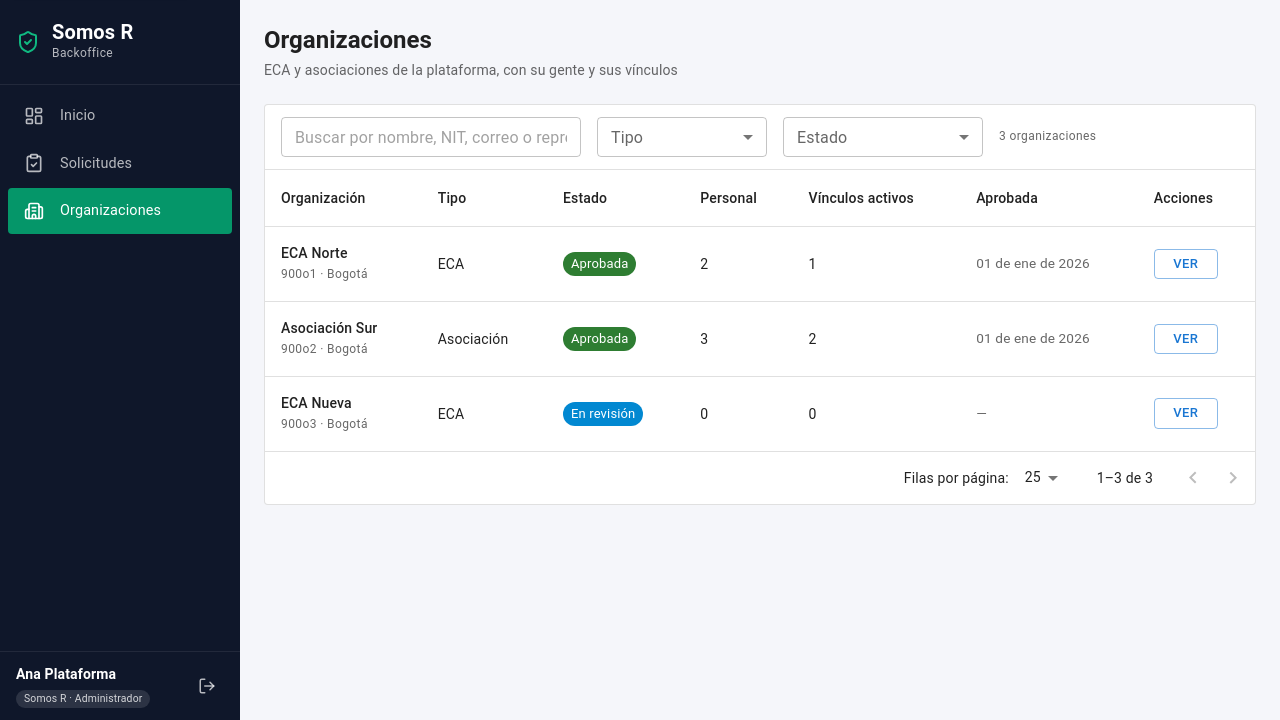
Test: organization detail › shows an ECA with its people, links and warehouses
Click the button "Ver" in the row of "ECA Norte" at (1186, 264), box [1154,249,1218,279]
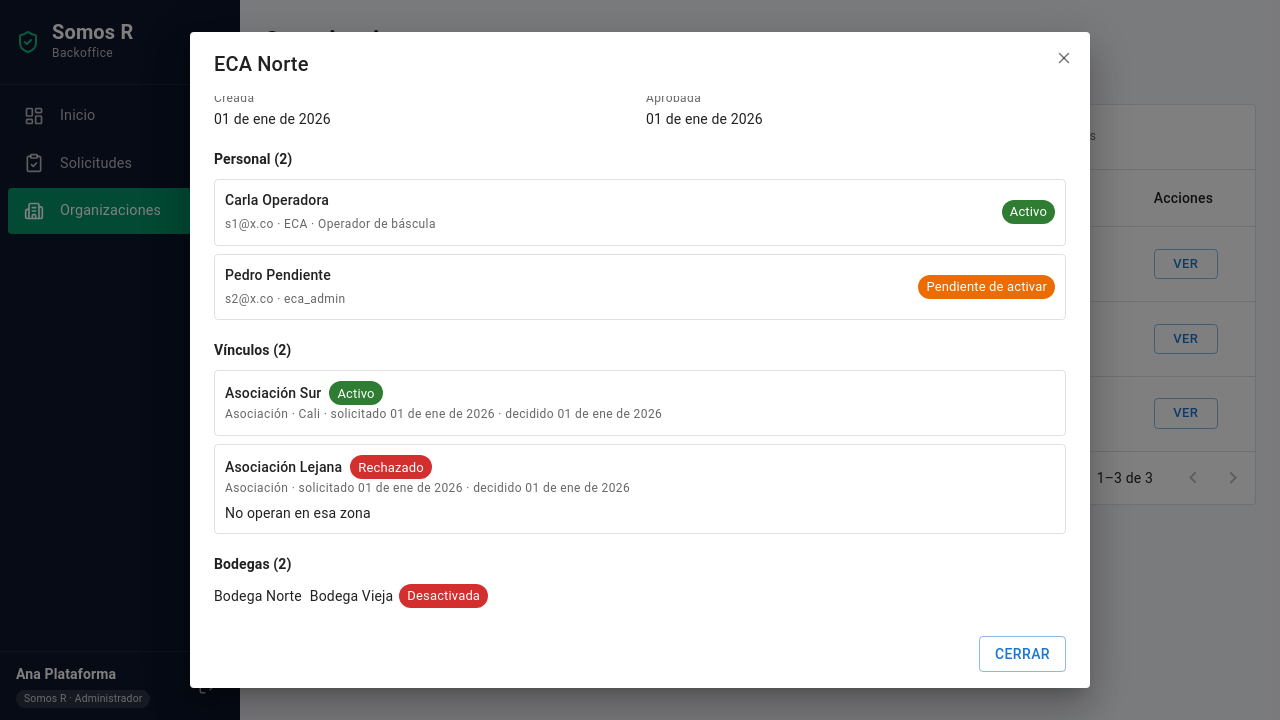
Expected: the text "s1@x.co · ECA · Operador de báscula" is shown, [225,217,436,231]
Expected: the text "Pendiente de activar" is shown, [918,277,1055,297]
Expected: the text "Asociación Sur" is shown, [225,383,321,403]
